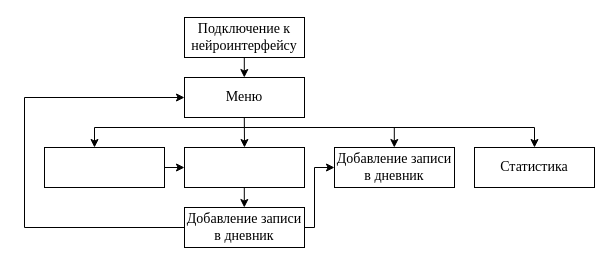
The diagram is 612 pixels wide and 265 high, and some of its shapes have lost their labels. The shapes that lost their labels are listed below. From the top down, each one's centre as x and y in pixels, then its label:
At point (104, 167): "Таймер работы".
At point (244, 167): "Таймер отдыха".
